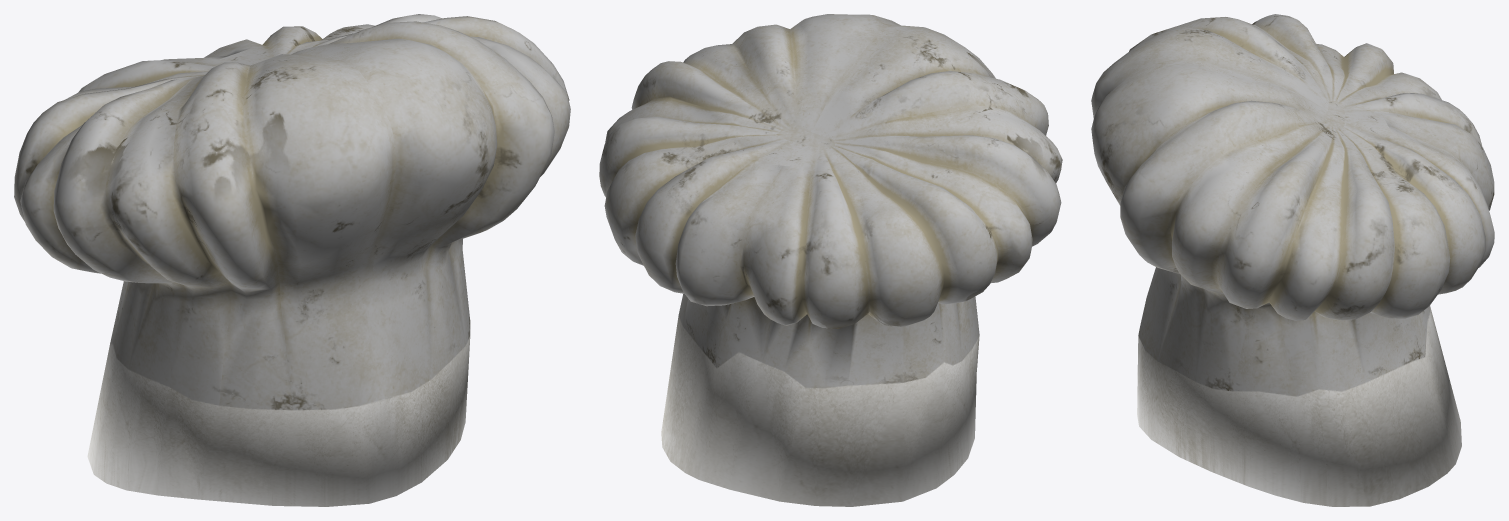
File: Chefhat.fbx
3 views of the same model, side by side, from view 1: azimuth 30°, elevation 25°; view 2: azimuth 150°, elevation 25°; view 3: azimuth 270°, elevation 25° (orthographic). The views are drawn at different scales.
Parts seen in each view (by area): view 1: ChefhatL; view 2: ChefhatL; view 3: ChefhatL.
Part boxes in pixels (x1=…): ChefhatL: x1=14, y1=14, x2=570, y2=506; ChefhatL: x1=599, y1=14, x2=1062, y2=506; ChefhatL: x1=1091, y1=14, x2=1494, y2=506.
Bounding box in the file's own units: 43.54 × 36.69 × 34.72.
